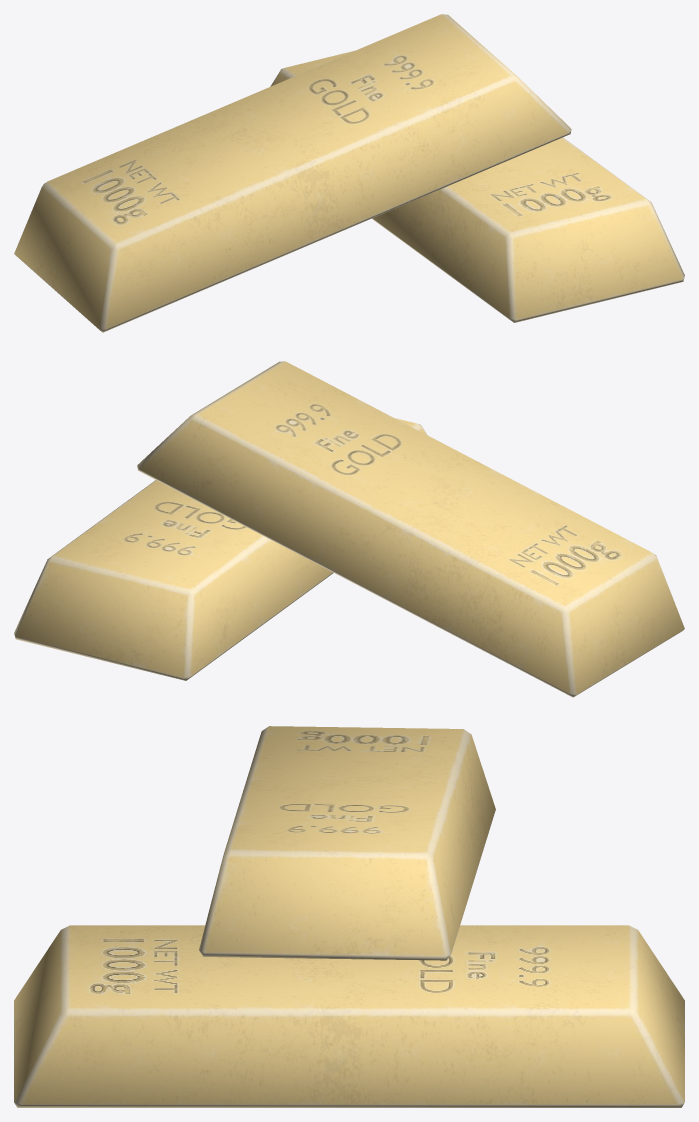
File: lingots-d-or.glb
The picture shows the model from 3 angles, top to bottom: view 1: azimuth 30°, elevation 25°; view 2: azimuth 150°, elevation 25°; view 3: azimuth 270°, elevation 25°; orthographic projection. The views are drawn at different scales.
Visible parts, largest first — view 1: Gold Bar.001, Gold Bar; view 2: Gold Bar.001, Gold Bar; view 3: Gold Bar, Gold Bar.001.
Boxes of the visible parts, box(x1,y1,x2,y2) form: Gold Bar.001: box(14, 14, 571, 332); Gold Bar: box(270, 50, 684, 322); Gold Bar.001: box(137, 361, 684, 697); Gold Bar: box(14, 418, 426, 680); Gold Bar: box(14, 925, 684, 1107); Gold Bar.001: box(199, 726, 495, 960).
Size of the model in its own units: 0.5783 by 0.1866 by 0.5453.
Materials: 1 (1 with a texture image).
